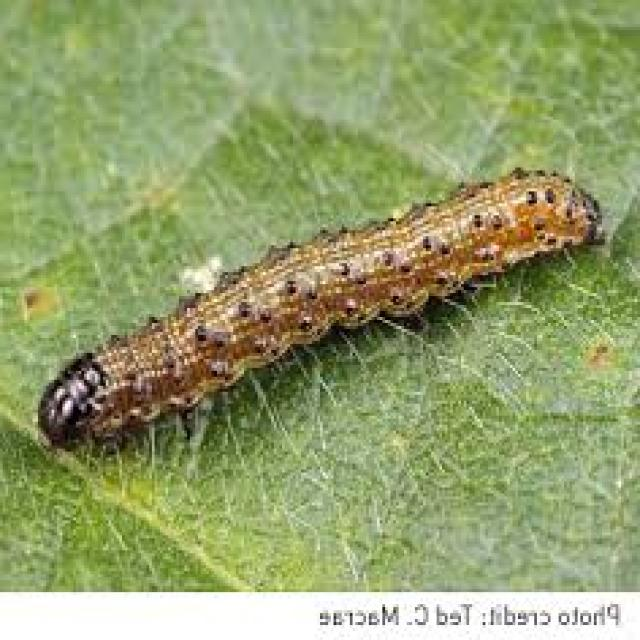armyworm: (32, 163, 601, 456)
